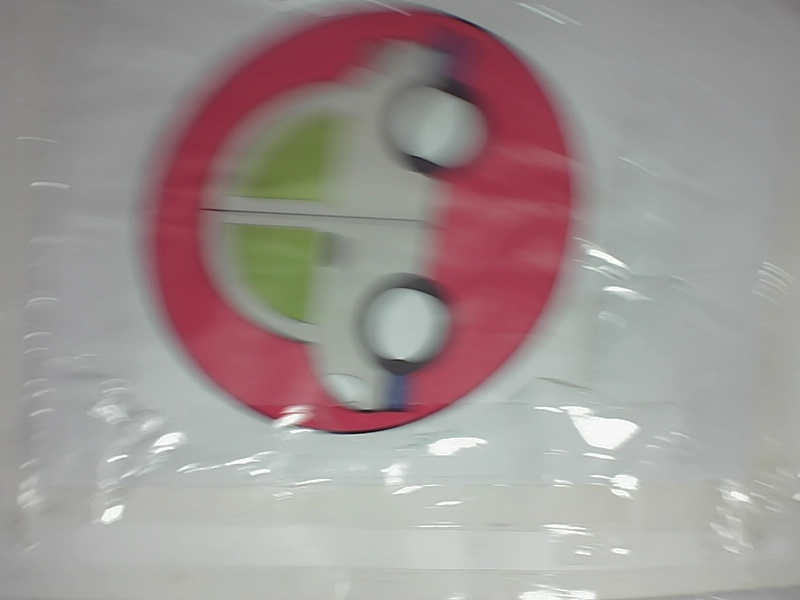areaC: (138, 9, 607, 440)
